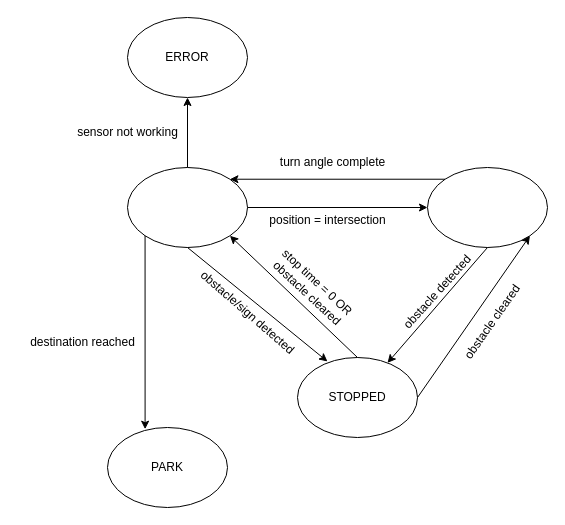
This 565x525 diagram has some shape labels left out. The centre of each missing label's shape, as x and y in pixels:
DRIVING: point 187,207
TURNING: point 487,207
